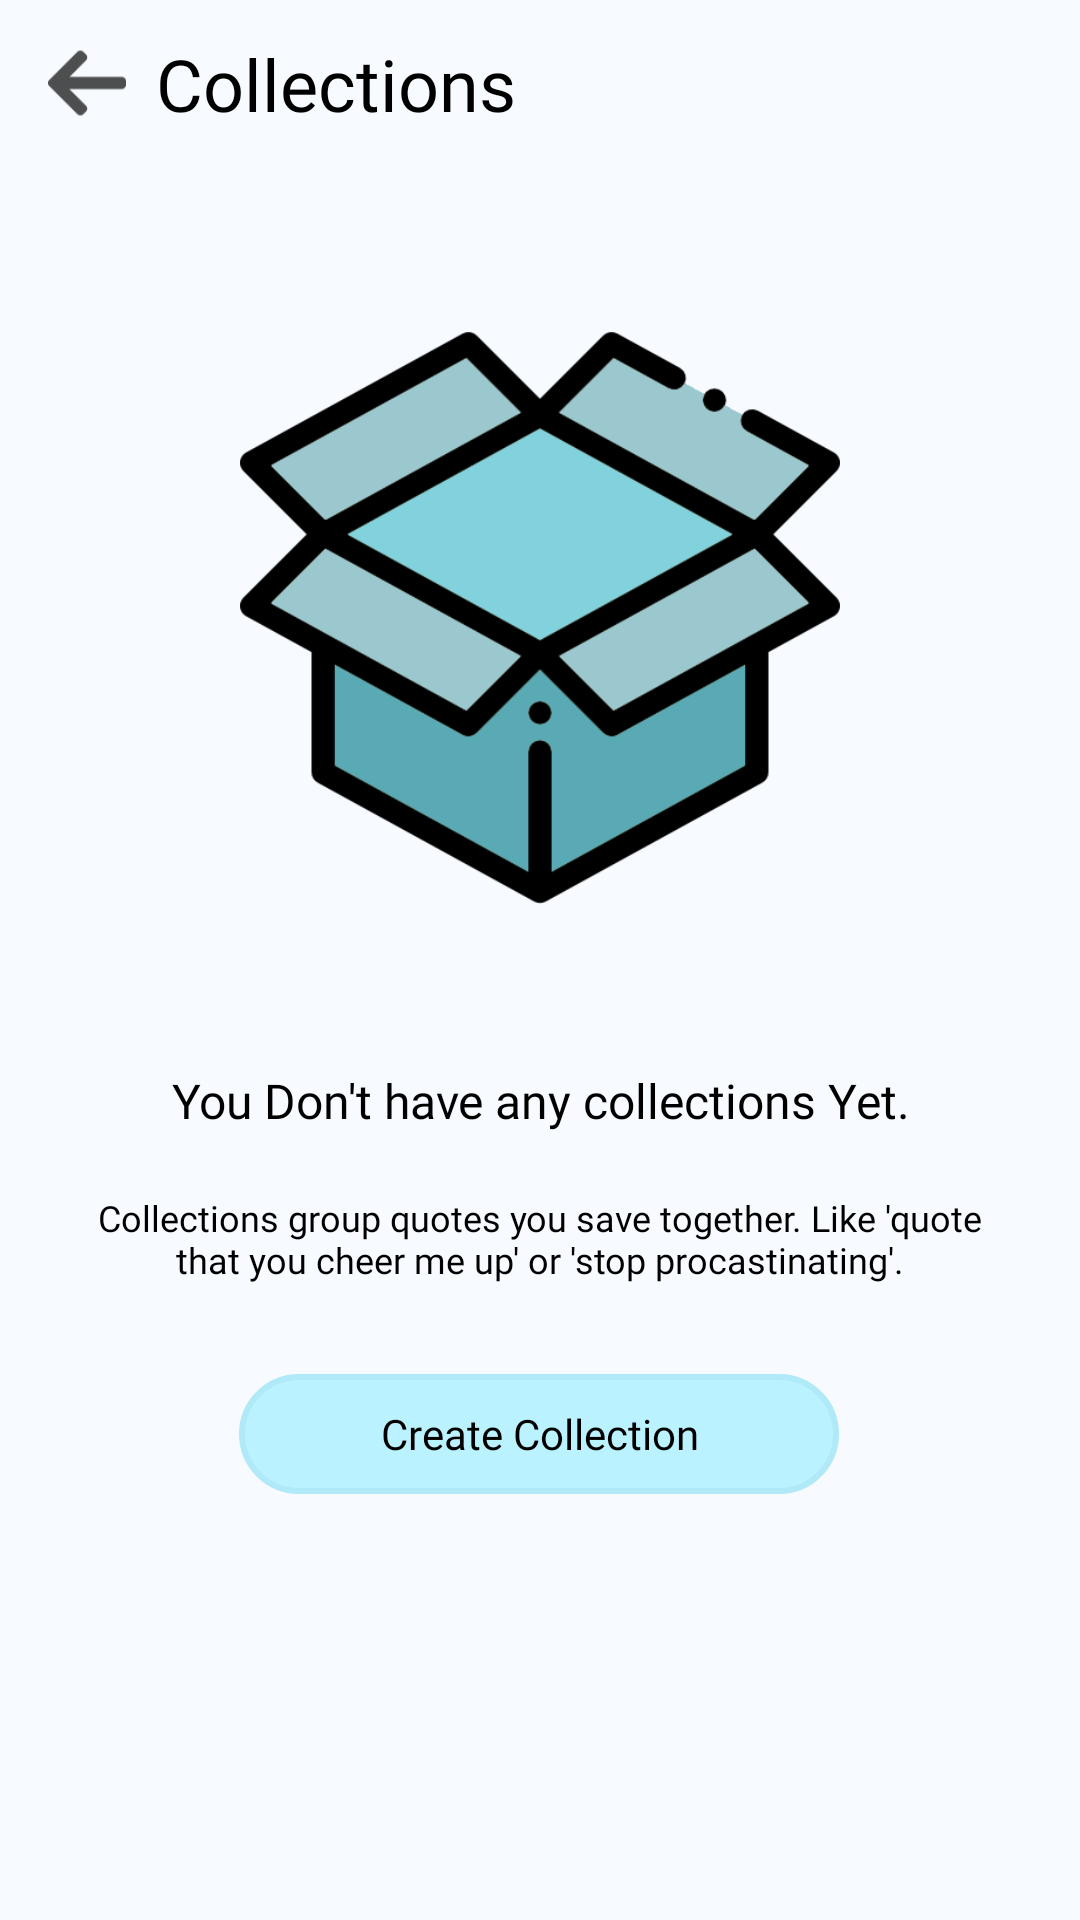

Screen size 1080w x 1920h. Icon name, then its box in pixels as (x1, y1, x2, y2):
back arrow: (48, 50, 126, 116)
